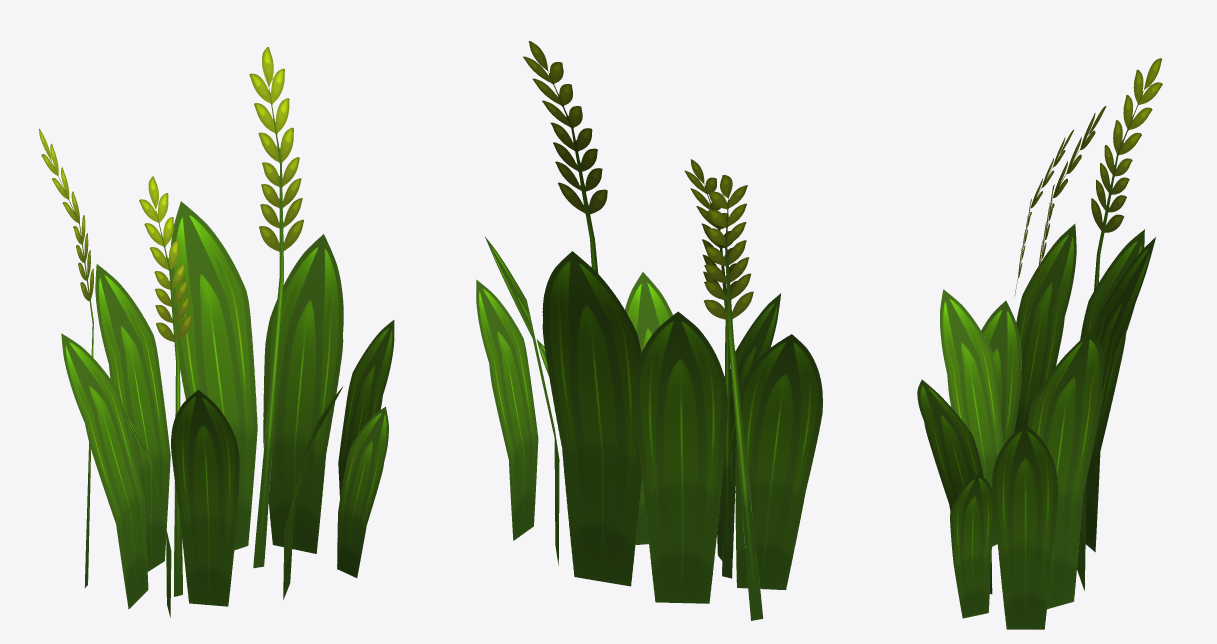
File: Grass_01.FBX
The picture shows the model from 3 angles, left to right: view 1: azimuth 30°, elevation 25°; view 2: azimuth 150°, elevation 25°; view 3: azimuth 270°, elevation 25°; orthographic projection. The views are drawn at different scales.
Visible parts, largest first — view 1: Grass_01; view 2: Grass_01; view 3: Grass_01.
Boxes of the visible parts, x1,y1,x2,y2 form: Grass_01: (39, 47, 394, 617); Grass_01: (476, 41, 822, 620); Grass_01: (917, 58, 1162, 629).
Bounding box in the file's own units: 16.78 × 23.43 × 12.62.
1 material, 1 textured.
